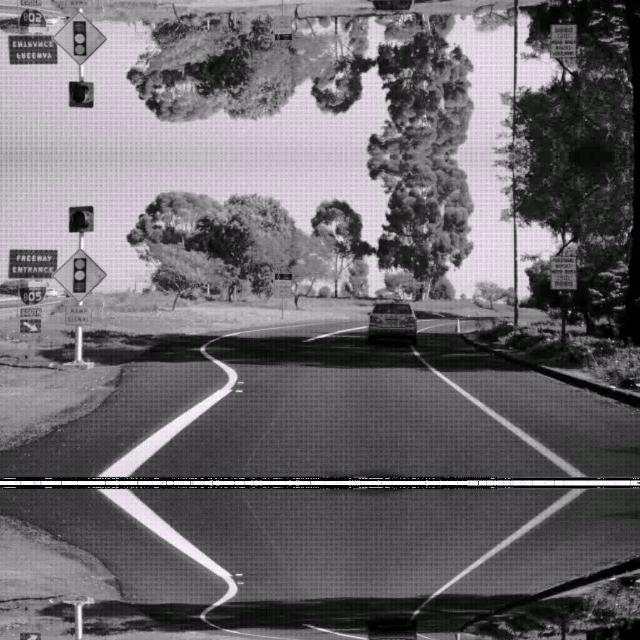signalAhead: (50, 246, 106, 302), (50, 10, 106, 66)
